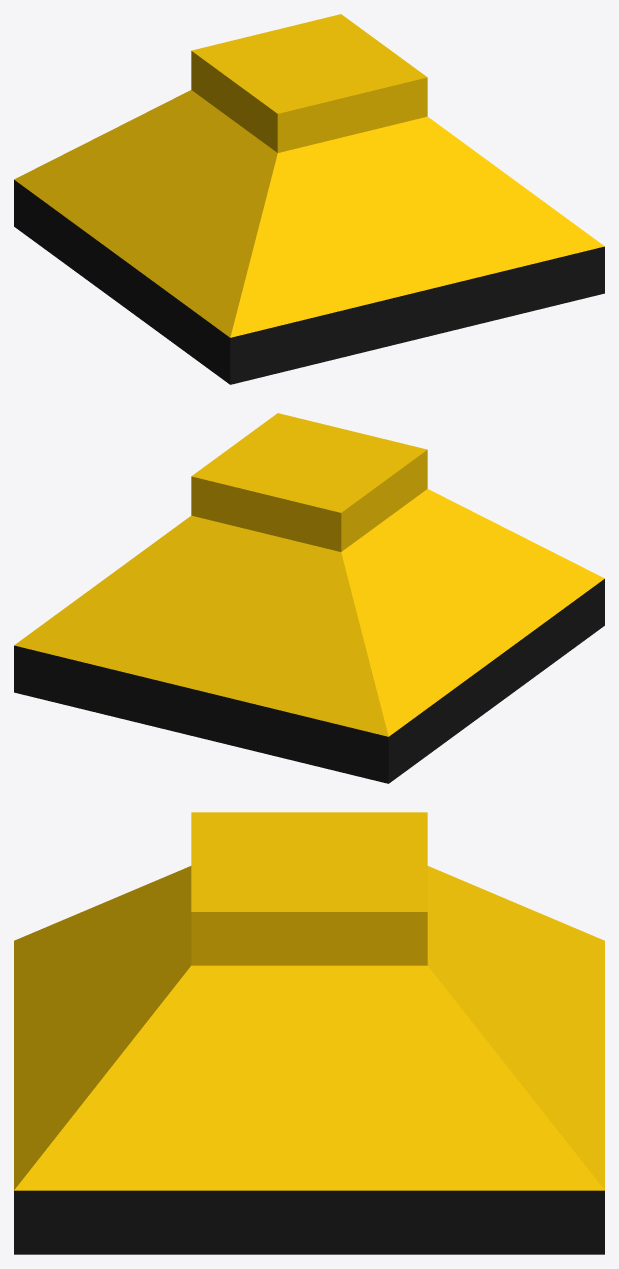
File: winch.dae
3 renders of one model, top to bottom at view 1: azimuth 30°, elevation 25°; view 2: azimuth 150°, elevation 25°; view 3: azimuth 270°, elevation 25°, orthographic. The views are drawn at different scales.
Visible parts, largest first — view 1: winch; view 2: winch; view 3: winch.
Part boxes in pixels (<box>): winch: <box>14,14,604,384</box>; winch: <box>14,413,604,783</box>; winch: <box>14,812,604,1254</box>.
Bounding box in the file's own units: 1 × 1 × 0.5.
